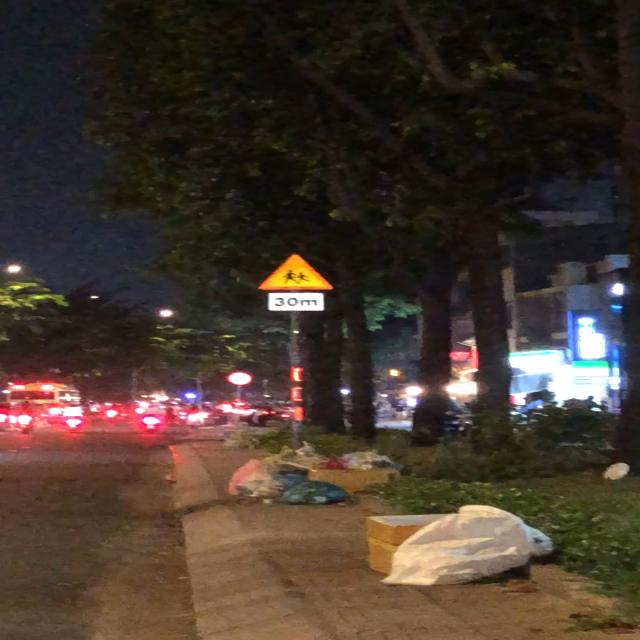Bien bao tre em: (253, 250, 334, 293)
